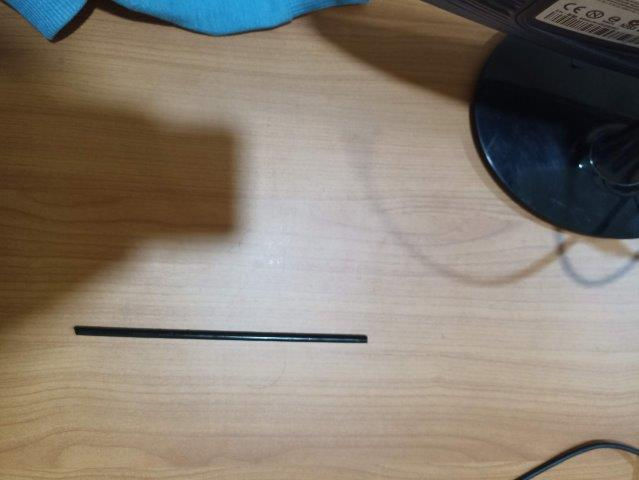sedotan: (73, 326, 367, 344)
